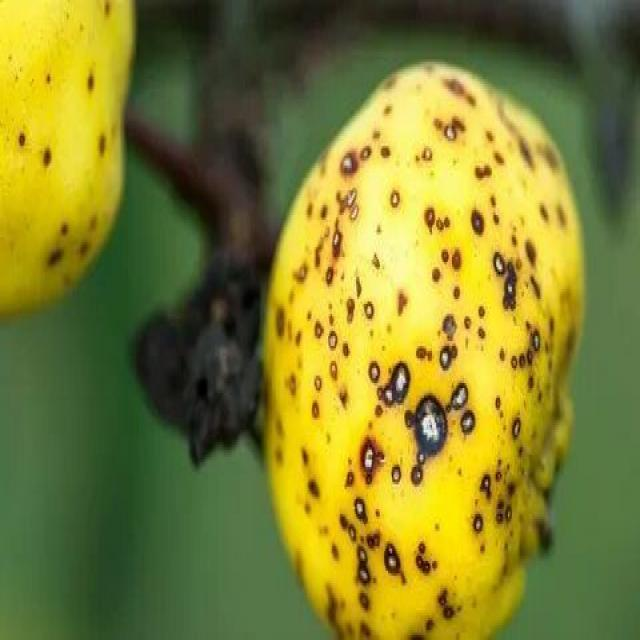Rotten: (287, 75, 583, 640)
